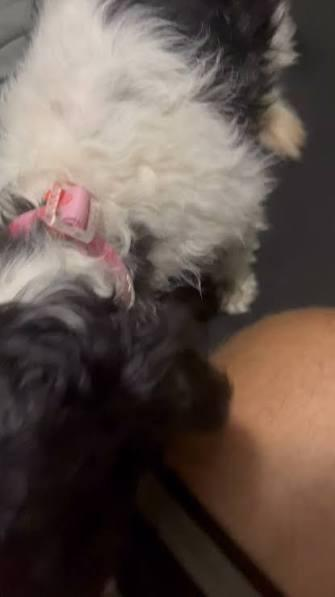adult_dog: (0, 0, 310, 580)
